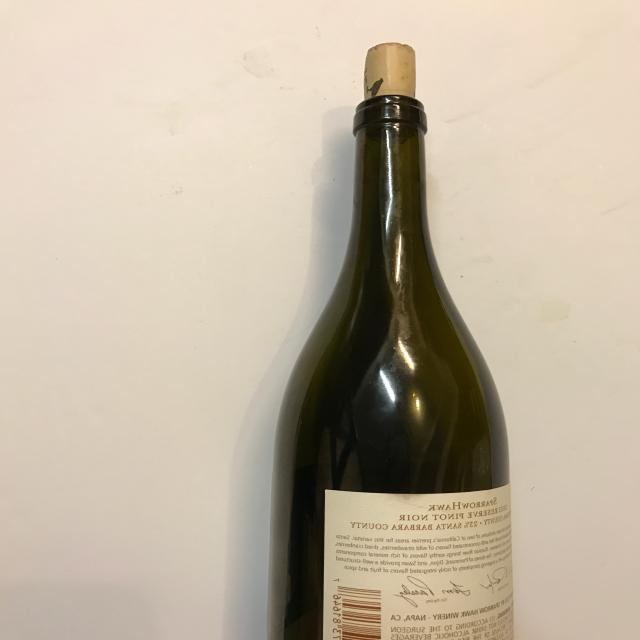glass: (267, 41, 515, 640)
